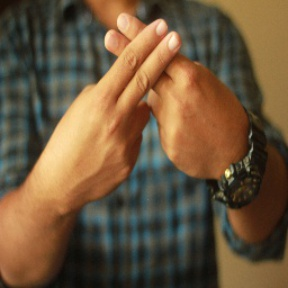F: (76, 21, 219, 143)
